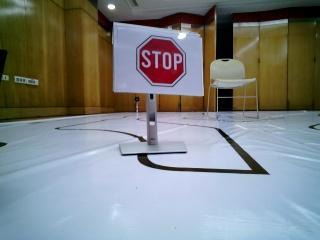stop: (115, 29, 194, 92)
